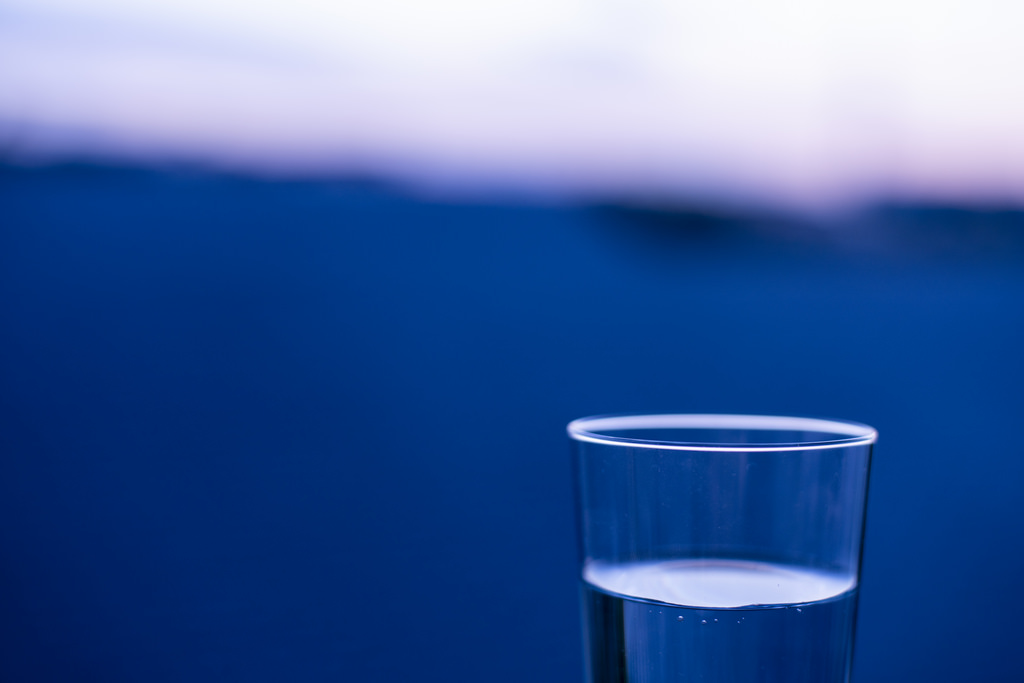glass of water: (556, 396, 874, 683)
